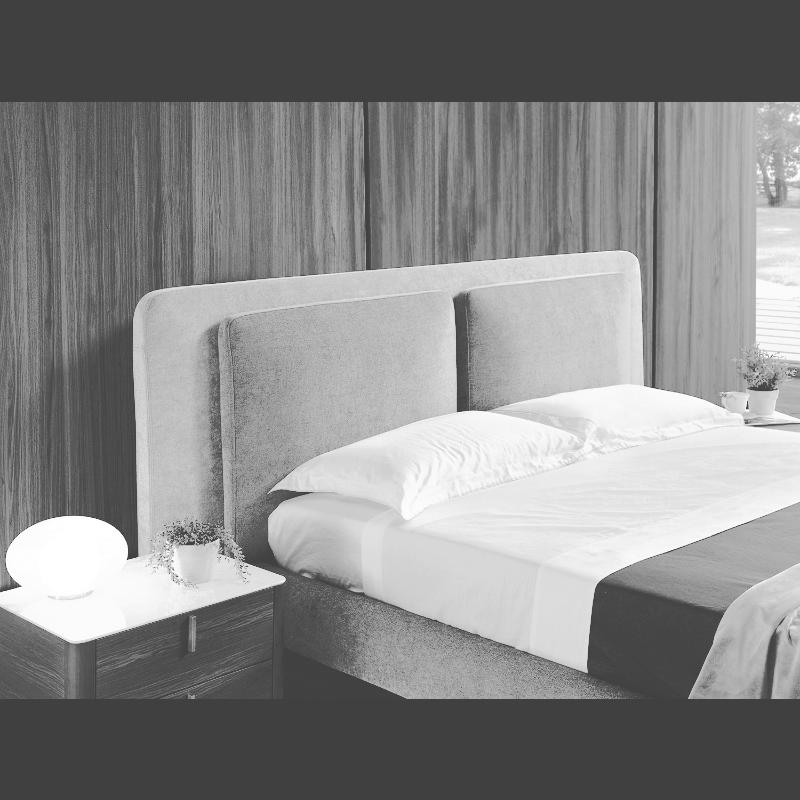pillow: (258, 404, 598, 518), (486, 378, 746, 456)
